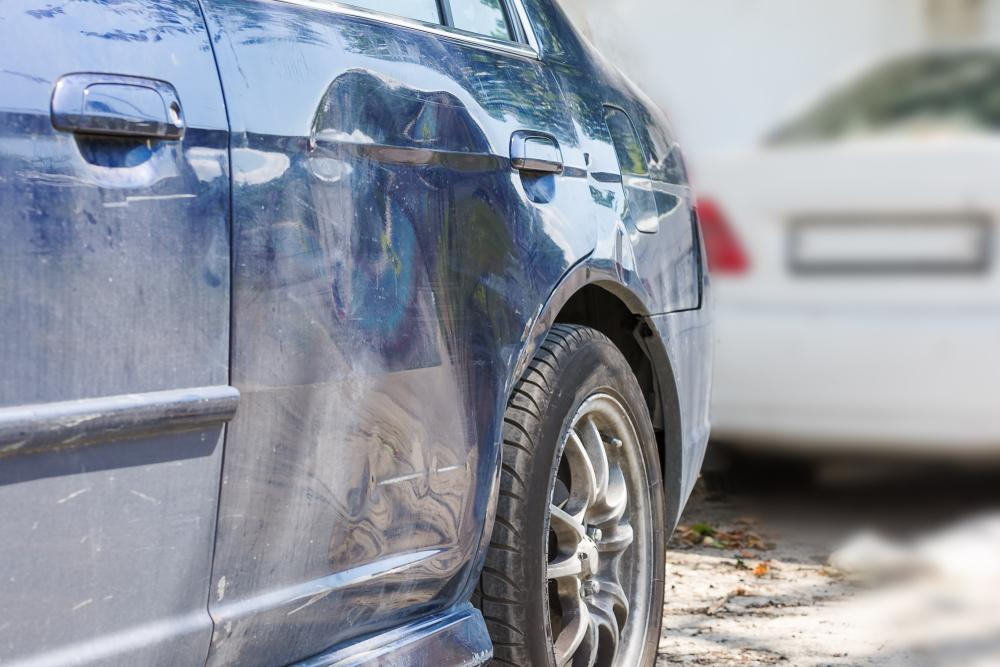dent: (239, 70, 570, 600)
